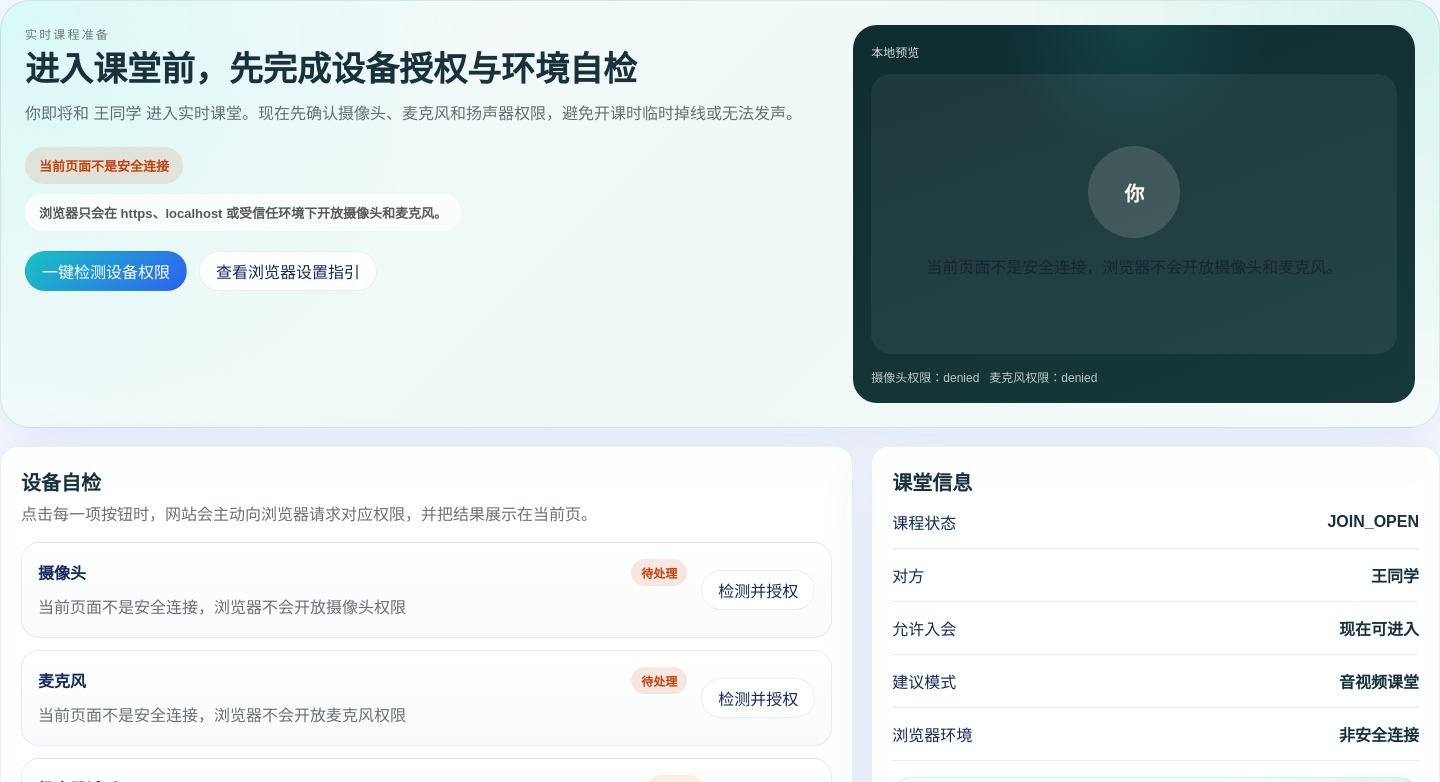
Test case: LivePreparePage › opens permission modal when browser cannot request media in insecure context
Click the button with test id "prepare-check-all". click: (106, 271)
box: left=25, top=251, right=187, bottom=291
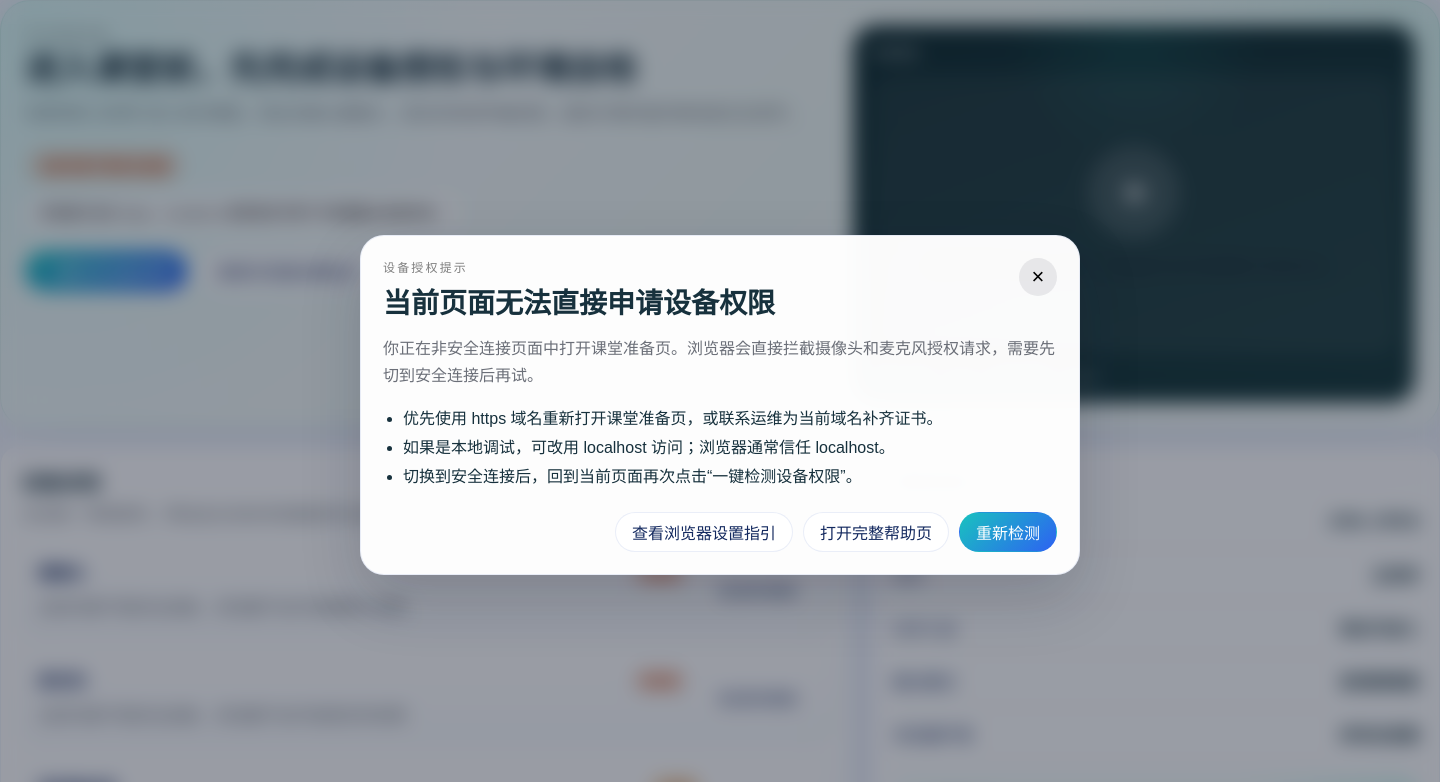
Expected: the text "https" is shown, left=39, top=206, right=447, bottom=221
Expected: the element with test id "permission-modal" shows "当前页面无法直接申请设备权限", left=383, top=288, right=775, bottom=319
